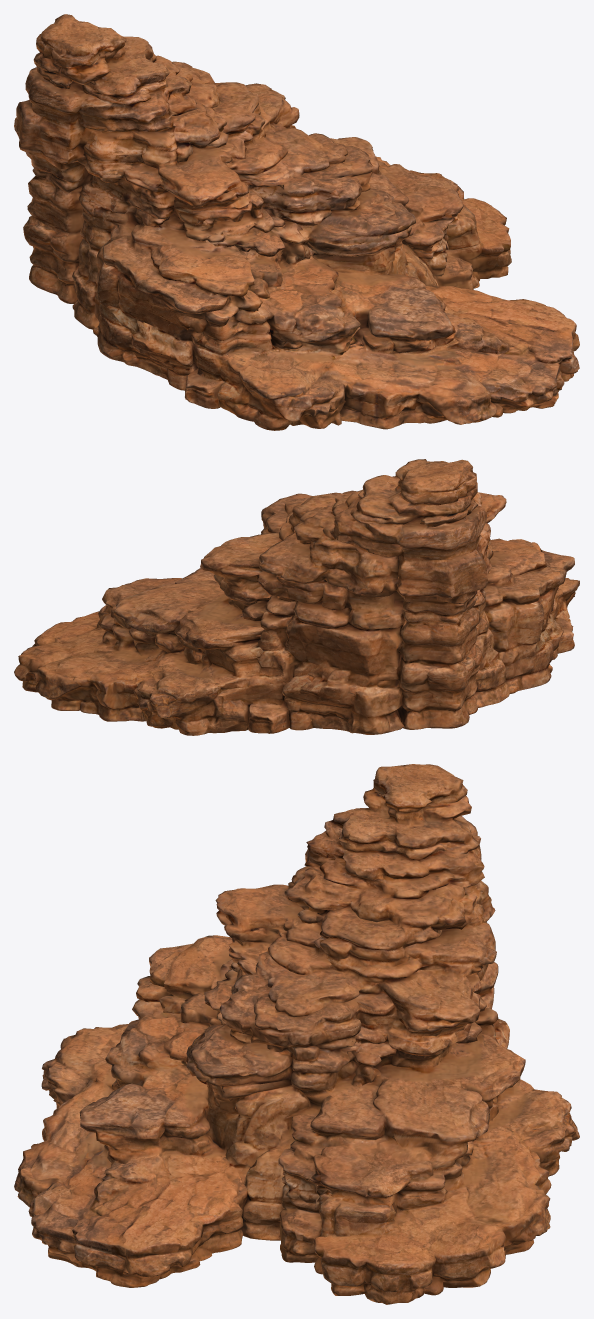
Rendered from ledge_left.glb.
3 views of the same model, one above another, from view 1: azimuth 30°, elevation 25°; view 2: azimuth 150°, elevation 25°; view 3: azimuth 270°, elevation 25° (orthographic). The views are drawn at different scales.
Visible parts, largest first — view 1: ledge_left; view 2: ledge_left; view 3: ledge_left.
Boxes of the visible parts, <box> form: ledge_left: <box>14,14,579,430</box>; ledge_left: <box>14,459,579,735</box>; ledge_left: <box>14,764,579,1304</box>.
Bounding box in the file's own units: 28 × 18.1 × 27.95.
1 material, 1 textured.
